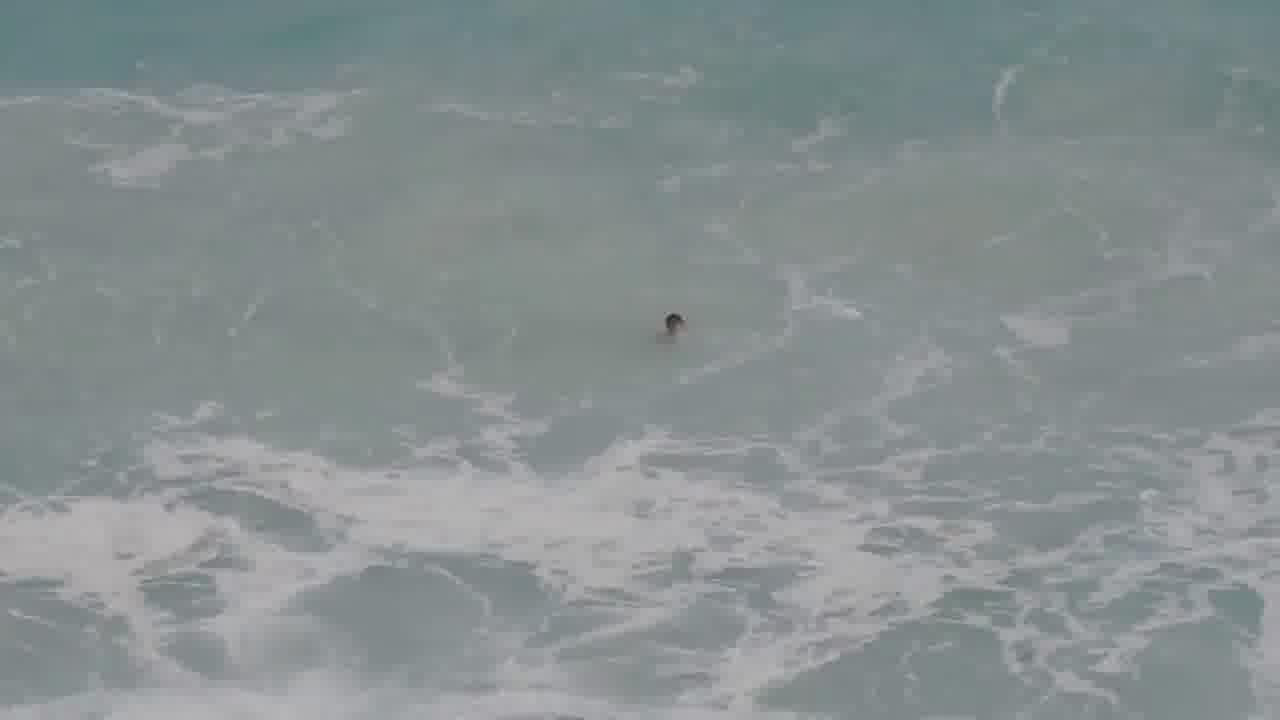swimmer: (658, 299, 699, 347)
